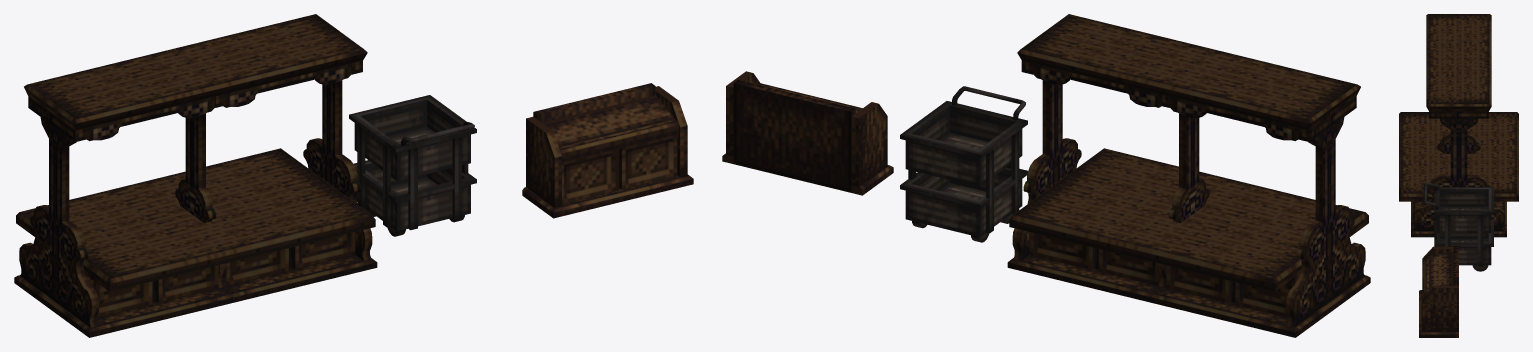
File: EnvObjMD_Book_BookShelf_D_BothSides.FBX
3 renders of one model, left to right at view 1: azimuth 30°, elevation 25°; view 2: azimuth 150°, elevation 25°; view 3: azimuth 270°, elevation 25°, orthographic. The views are drawn at different scales.
Visible parts, largest first — view 1: EnvObjMD_Book_BookShelf_D_BothSides, EnvObjMD_Book_Shelf_E, EnvObjMD_Book_BookWagon_A; view 2: EnvObjMD_Book_BookShelf_D_BothSides, EnvObjMD_Book_BookWagon_A, EnvObjMD_Book_Shelf_E; view 3: EnvObjMD_Book_BookShelf_D_BothSides, EnvObjMD_Book_BookWagon_A, EnvObjMD_Book_Shelf_E.
Part boxes in pixels (box(x1,y1,x2,y2)): EnvObjMD_Book_BookShelf_D_BothSides: box(14, 14, 377, 337); EnvObjMD_Book_Shelf_E: box(522, 83, 693, 218); EnvObjMD_Book_BookWagon_A: box(349, 95, 476, 236); EnvObjMD_Book_BookShelf_D_BothSides: box(1007, 14, 1370, 337); EnvObjMD_Book_BookWagon_A: box(900, 86, 1027, 242); EnvObjMD_Book_Shelf_E: box(722, 71, 893, 195); EnvObjMD_Book_BookShelf_D_BothSides: box(1399, 14, 1518, 237); EnvObjMD_Book_BookWagon_A: box(1424, 182, 1493, 271); EnvObjMD_Book_Shelf_E: box(1419, 246, 1458, 337).
Size of the model in its own units: 831 by 270 by 220.
